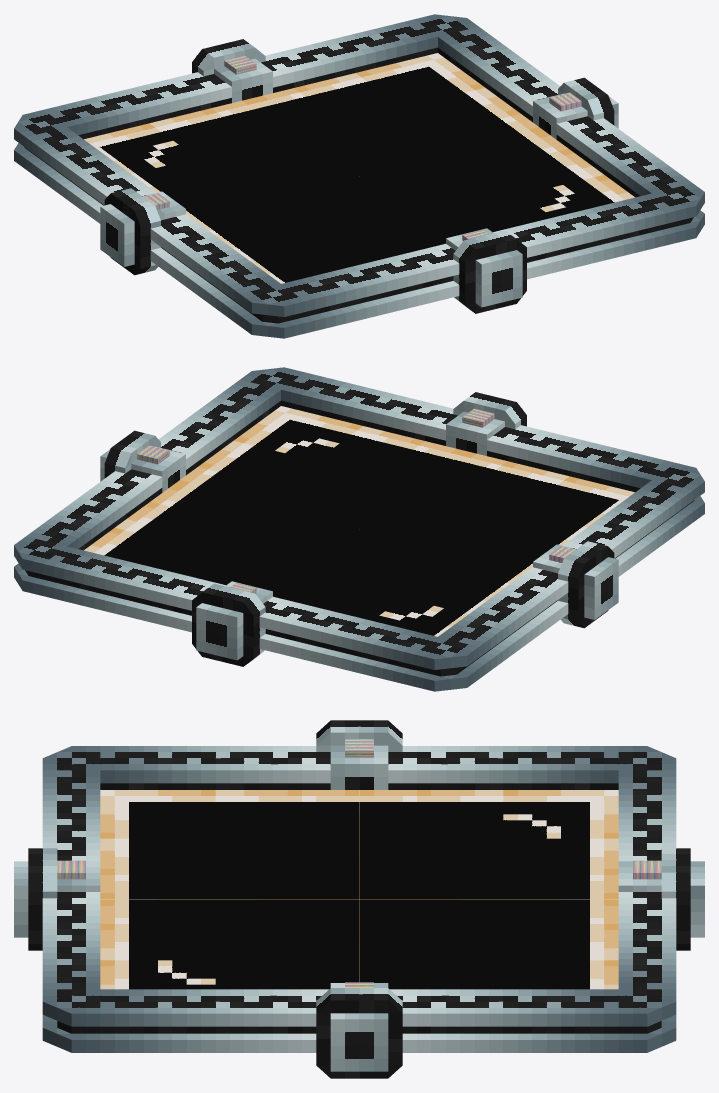
The model's file is collector_earth.obj.
The picture shows the model from 3 angles, top to bottom: view 1: azimuth 30°, elevation 25°; view 2: azimuth 150°, elevation 25°; view 3: azimuth 270°, elevation 25°; orthographic projection. The views are drawn at different scales.
Visible parts, largest first — view 1: COLLECTOR_Cube.002; view 2: COLLECTOR_Cube.002; view 3: COLLECTOR_Cube.002.
Boxes of the visible parts, x1,y1,x2,y2 form: COLLECTOR_Cube.002: (14,14,704,338); COLLECTOR_Cube.002: (14,367,704,691); COLLECTOR_Cube.002: (14,720,704,1078).
Bounding box in the file's own units: 3 × 0.375 × 3.
